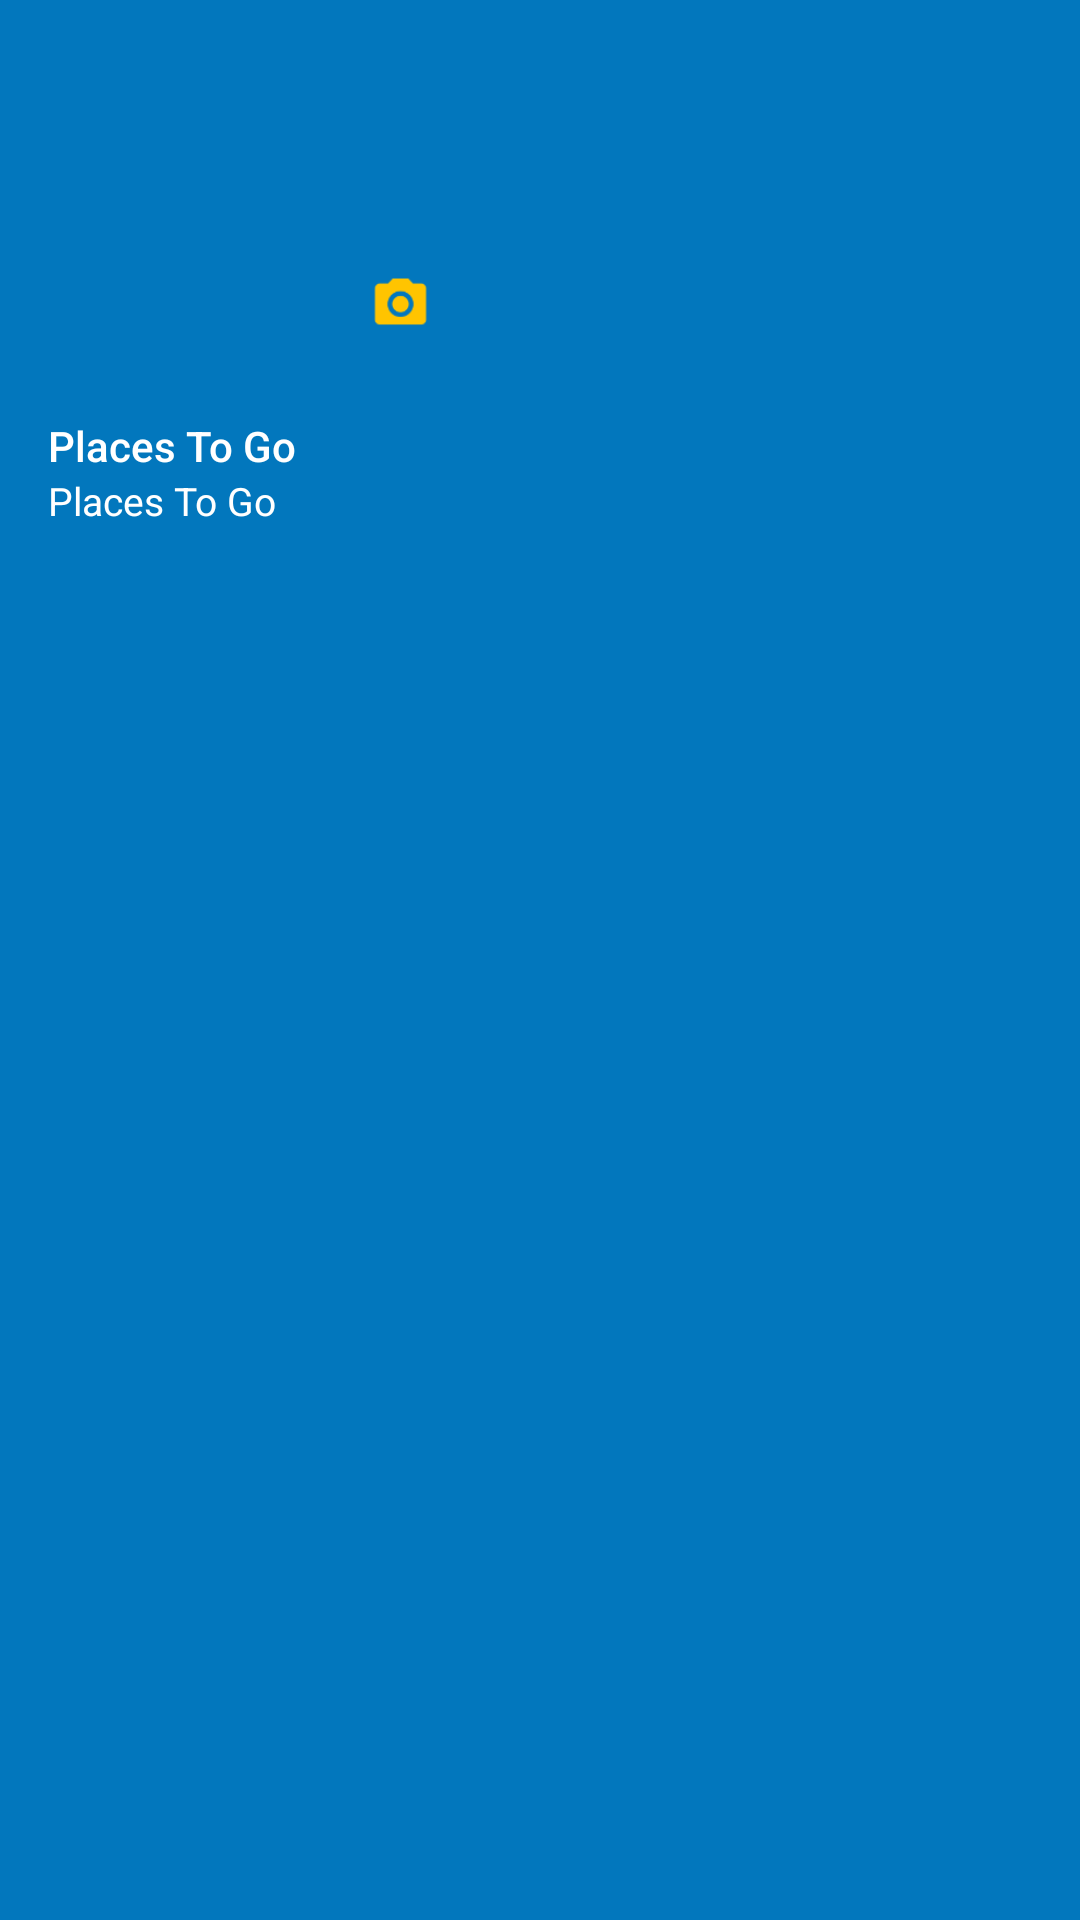

Named icons in this screenshot (1080 x 1920) and their bounding boxes, (x1, y1, x2, y2):
camera: (374, 278, 427, 325)
